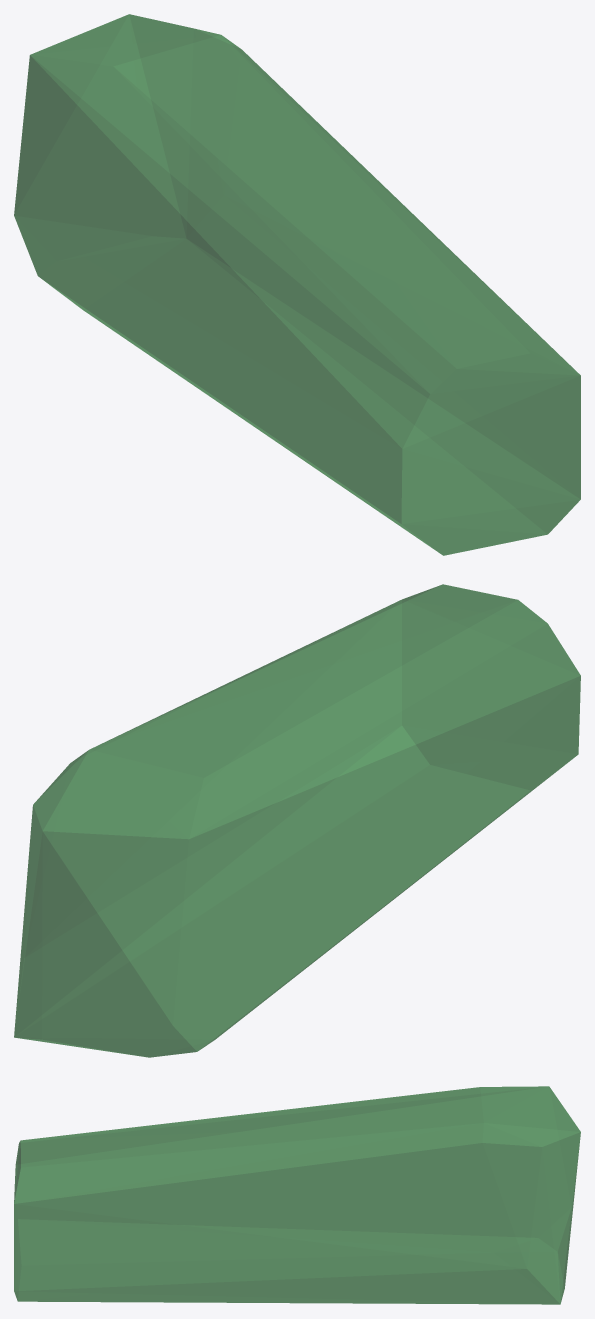
The picture shows the model from 3 angles, top to bottom: view 1: azimuth 30°, elevation 25°; view 2: azimuth 150°, elevation 25°; view 3: azimuth 270°, elevation 25°; orthographic projection. The views are drawn at different scales.
Parts seen in each view (by area): view 1: Shape_IndexedFaceSet.003_Shape_IndexedFaceSet.8252; view 2: Shape_IndexedFaceSet.003_Shape_IndexedFaceSet.8252; view 3: Shape_IndexedFaceSet.003_Shape_IndexedFaceSet.8252.
Boxes of the visible parts, box(x1,y1,x2,y2) form: Shape_IndexedFaceSet.003_Shape_IndexedFaceSet.8252: box(14, 14, 580, 555); Shape_IndexedFaceSet.003_Shape_IndexedFaceSet.8252: box(14, 584, 580, 1057); Shape_IndexedFaceSet.003_Shape_IndexedFaceSet.8252: box(14, 1086, 580, 1304).
Size of the model in its own units: 0.0835 by 0.1105 by 0.3148.
